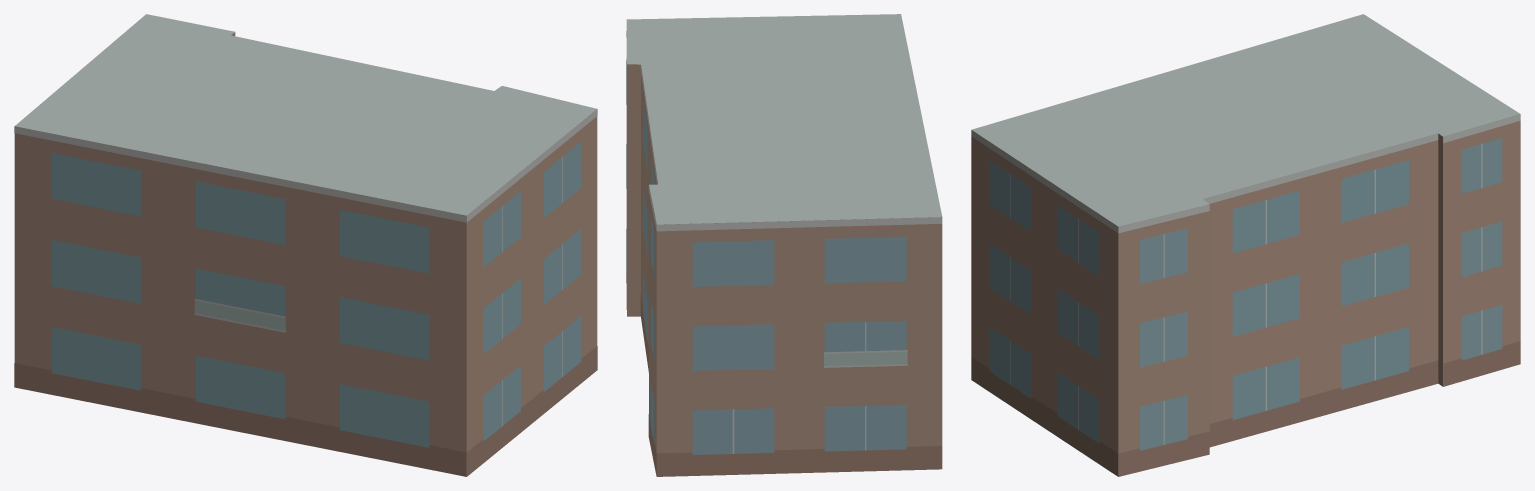
The model's file is survey-upis-32881733.glb.
The picture shows the model from 3 angles, left to right: view 1: azimuth 30°, elevation 25°; view 2: azimuth 150°, elevation 25°; view 3: azimuth 270°, elevation 25°; orthographic projection. The views are drawn at different scales.
Parts seen in each view (by area): view 1: survey-upis-32881733.tmp; view 2: survey-upis-32881733.tmp; view 3: survey-upis-32881733.tmp.
Part boxes in pixels (box(x1,y1,x2,y2)): survey-upis-32881733.tmp: box(14, 14, 597, 476); survey-upis-32881733.tmp: box(626, 14, 942, 476); survey-upis-32881733.tmp: box(971, 14, 1520, 476).
Bounding box in the file's own units: 16.69 × 9.15 × 18.22.
